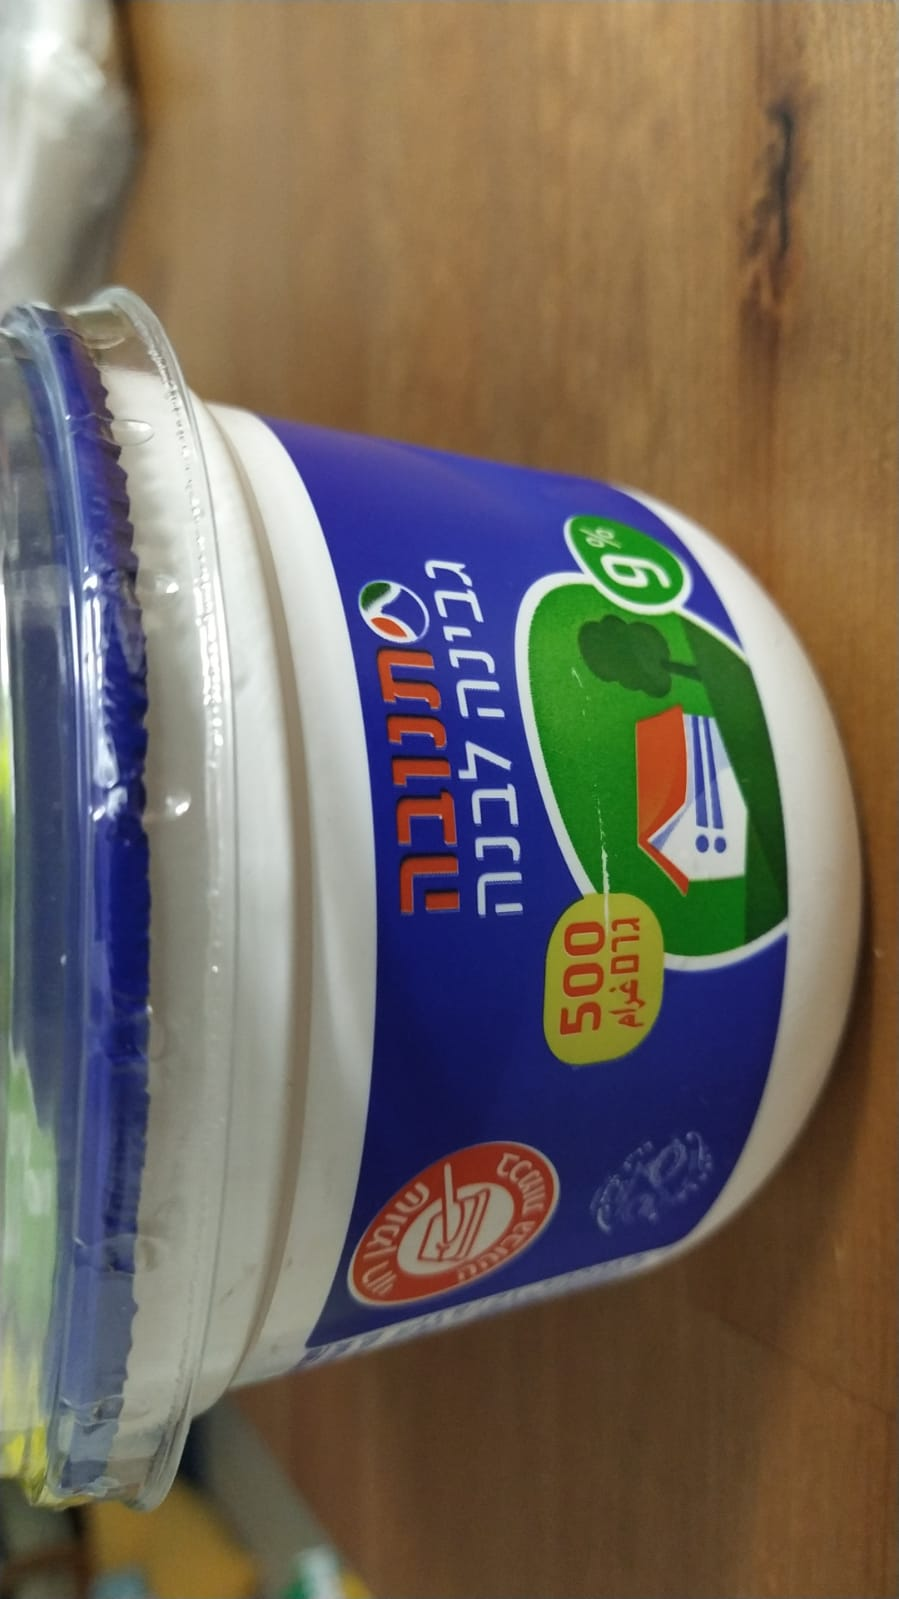fat: (342, 1140, 565, 1309)
